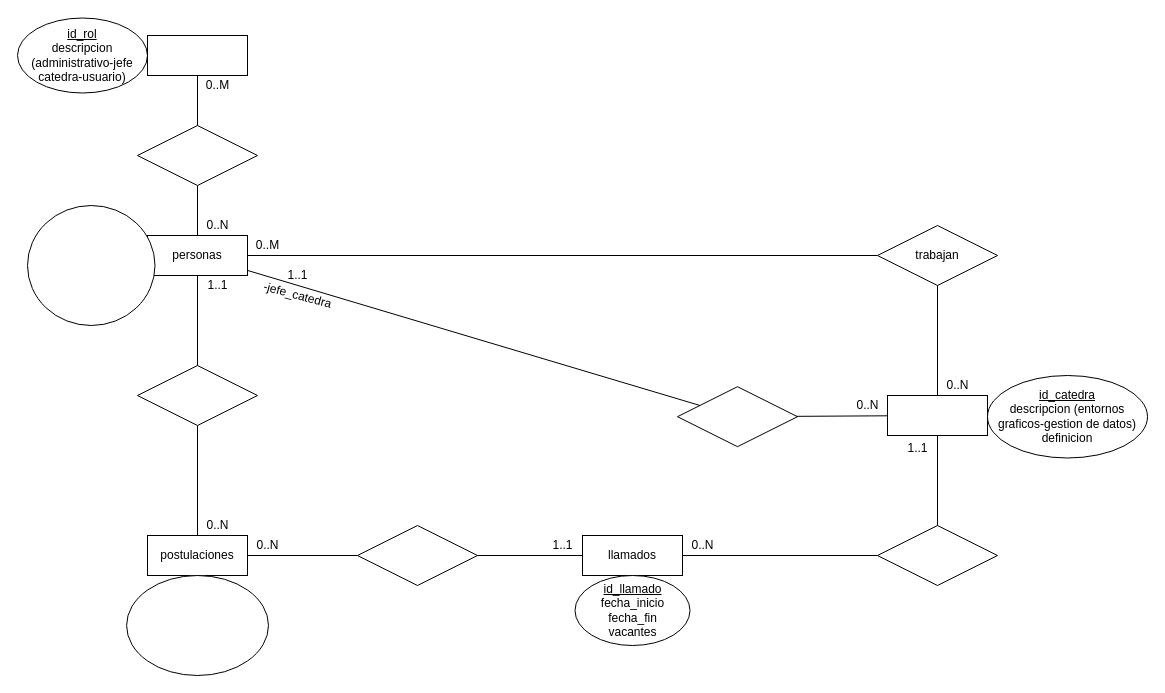
The diagram is 1165 pixels wide and 693 high, and some of its shapes have lost their labels. Each missing label, with the centre of its shape:
catedras: (x=937, y=415)
id_persona dni nombre_usuario clave nombre_completo email telefono: (x=90, y=265)
id_postulacion curriculum_vitae (46472_01.pdf) esatdo puntaje (1-100) estado: (x=197, y=625)
roles: (x=197, y=55)
